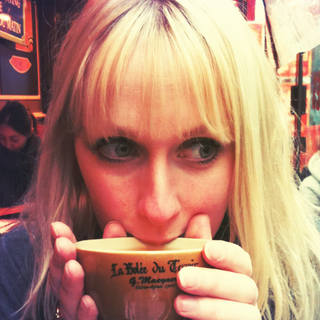eye: (168, 132, 227, 168), (90, 132, 145, 166)
